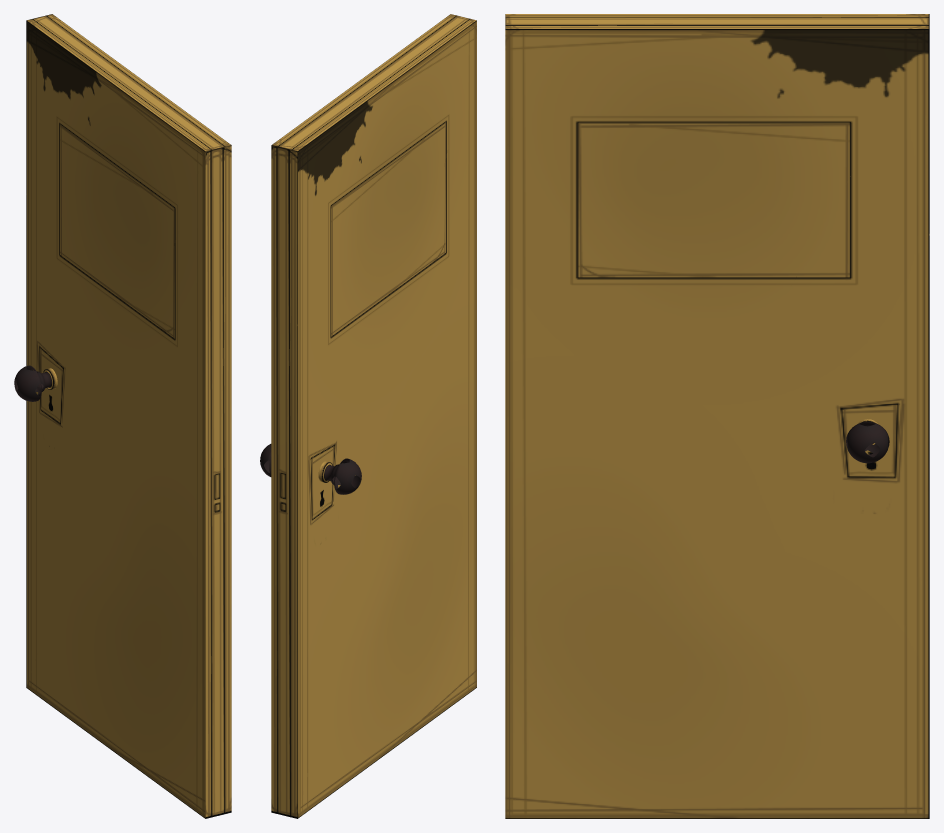
The model's file is doorV2.fbx.
3 renders of one model, left to right at view 1: azimuth 30°, elevation 25°; view 2: azimuth 150°, elevation 25°; view 3: azimuth 270°, elevation 25°, orthographic. The views are drawn at different scales.
Parts seen in each view (by area): view 1: Cube; view 2: Cube; view 3: Cube.
Boxes of the visible parts, box(x1,y1,x2,y2) form: Cube: box(14, 14, 231, 818); Cube: box(260, 14, 476, 818); Cube: box(505, 14, 929, 818).
Size of the model in its own units: 41.37 by 272 by 132.
